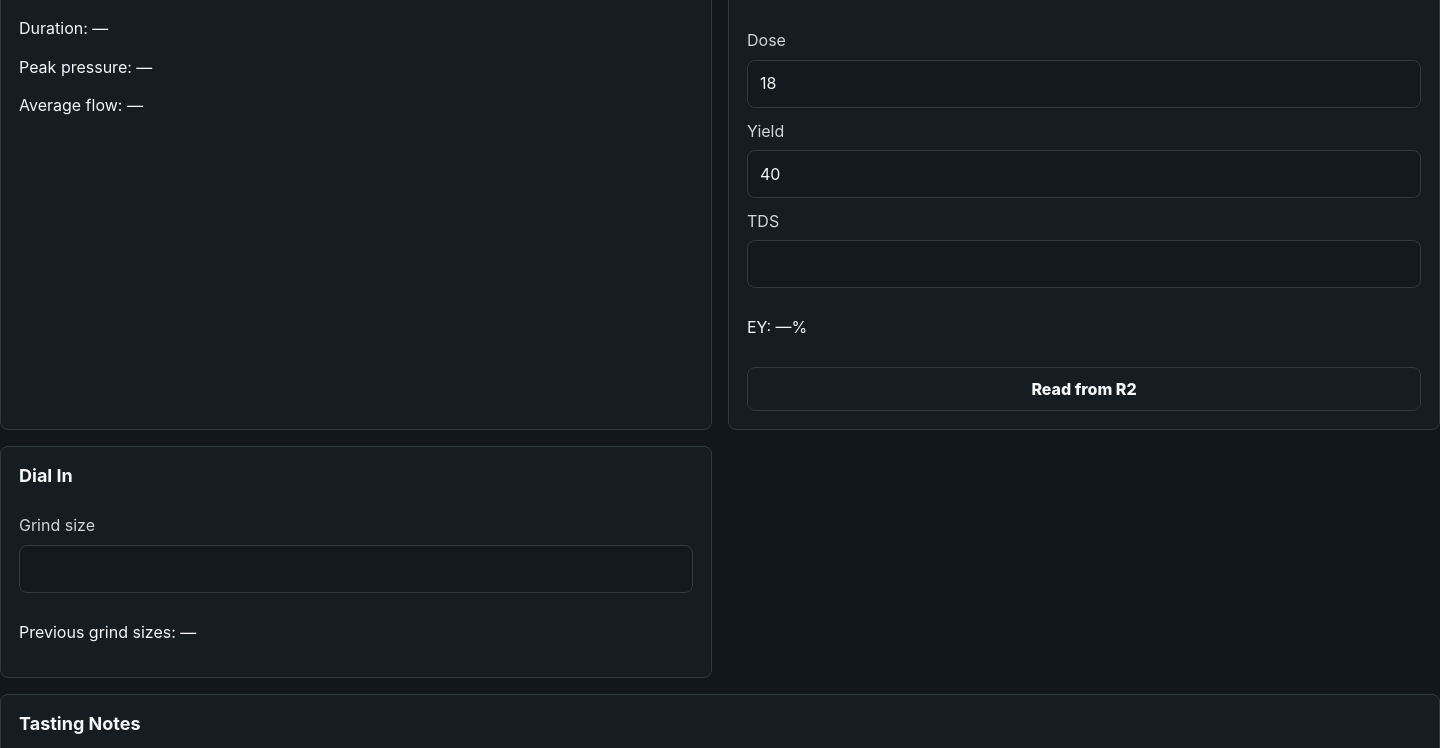
Test: ReviewPage › shows local R2 reading feedback in the extraction panel
This screenshot has width=1440, height=748.
(page scrolled)
Click the button "Read from R2".
click(1084, 389)  # box [747, 367, 1421, 411]
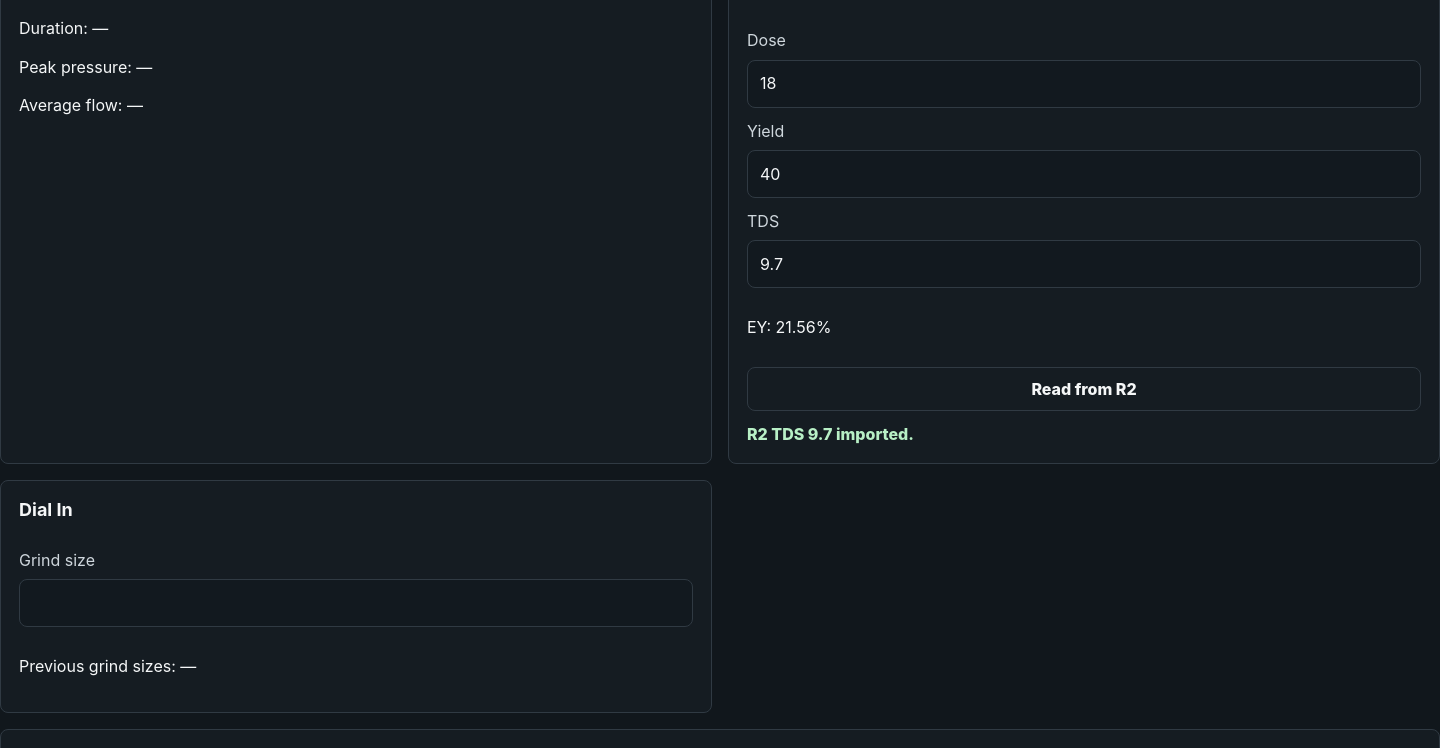
Check: the text "R2 TDS 9.7 imported." is shown, box [747, 424, 914, 444]
Check: the field labelled "TDS" holds "9.7", box [747, 240, 1421, 288]
